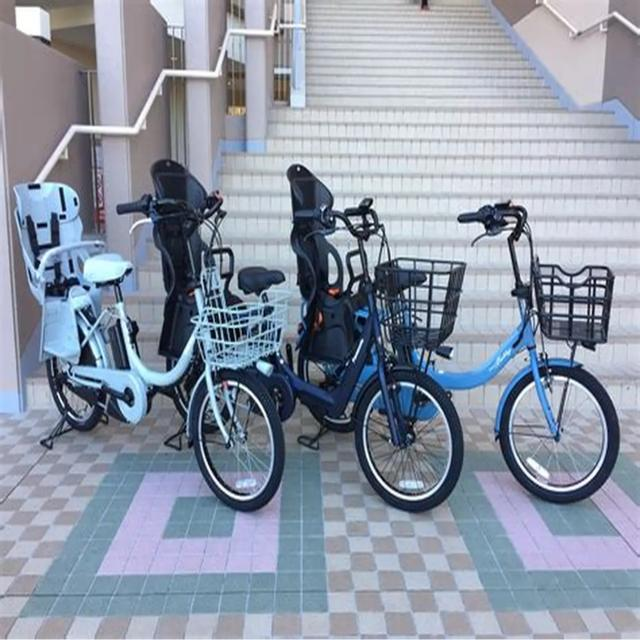basket: (373, 254, 469, 348), (193, 278, 287, 369), (528, 262, 614, 345)
battery: (112, 317, 131, 376)
childseat: (13, 178, 110, 362), (284, 159, 366, 358), (144, 154, 229, 342)
